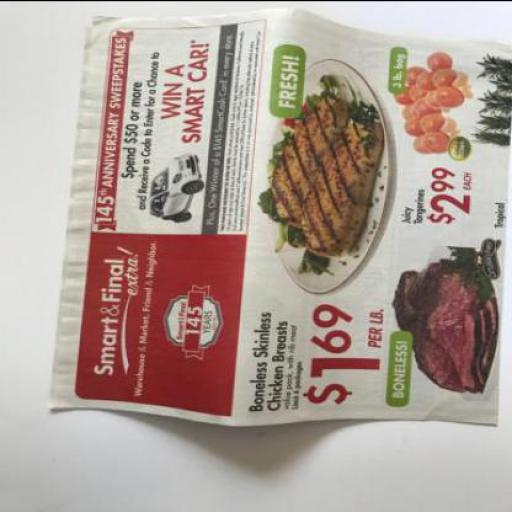paper: (48, 5, 511, 423)
